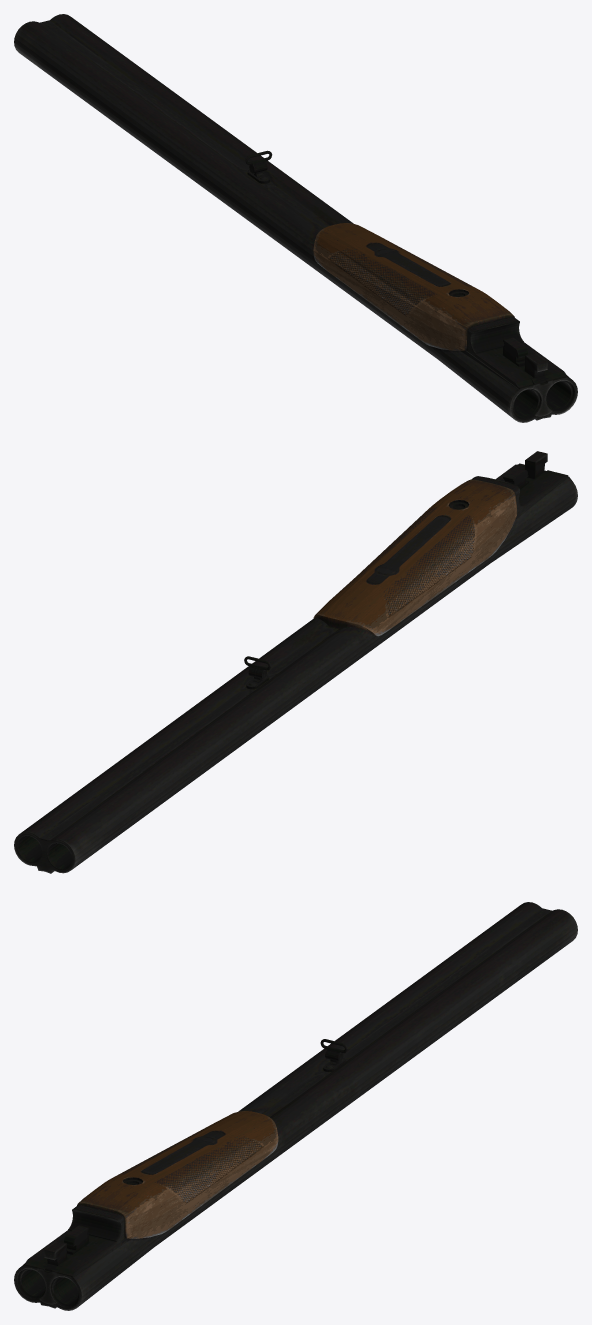
3 views of the same model, one above another, from view 1: azimuth 30°, elevation 25°; view 2: azimuth 150°, elevation 25°; view 3: azimuth 330°, elevation 25° (orthographic).
Visible parts, largest first — view 1: TW_55d447bb4bdc2d892f8b456f_PZ_Import; view 2: TW_55d447bb4bdc2d892f8b456f_PZ_Import; view 3: TW_55d447bb4bdc2d892f8b456f_PZ_Import.
Boxes of the visible parts, bbox=[...] form: TW_55d447bb4bdc2d892f8b456f_PZ_Import: bbox=[14, 14, 577, 422]; TW_55d447bb4bdc2d892f8b456f_PZ_Import: bbox=[14, 451, 577, 873]; TW_55d447bb4bdc2d892f8b456f_PZ_Import: bbox=[14, 902, 577, 1310].
Size of the model in its own units: 0.033 by 0.4191 by 0.0311.
Materials: 1 (1 with a texture image).
